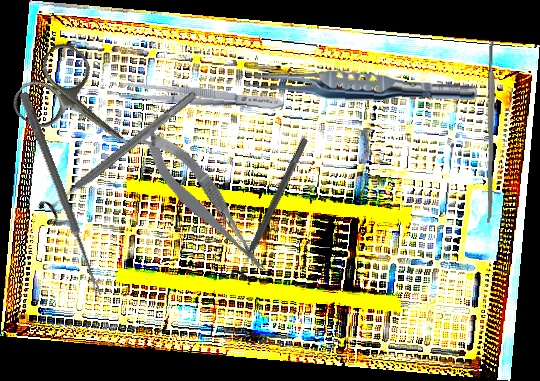Dressing Forceps: (117, 79, 286, 115)
Fixation Ring: (34, 81, 205, 229), (228, 133, 317, 287)
Iris Scissors: (6, 37, 154, 179)
Micro Scissor: (133, 114, 274, 291)
Scalpel Handle: (485, 40, 497, 224)
Surgical Spoon: (17, 91, 105, 297)
Tissue Forceps: (241, 66, 478, 107)
